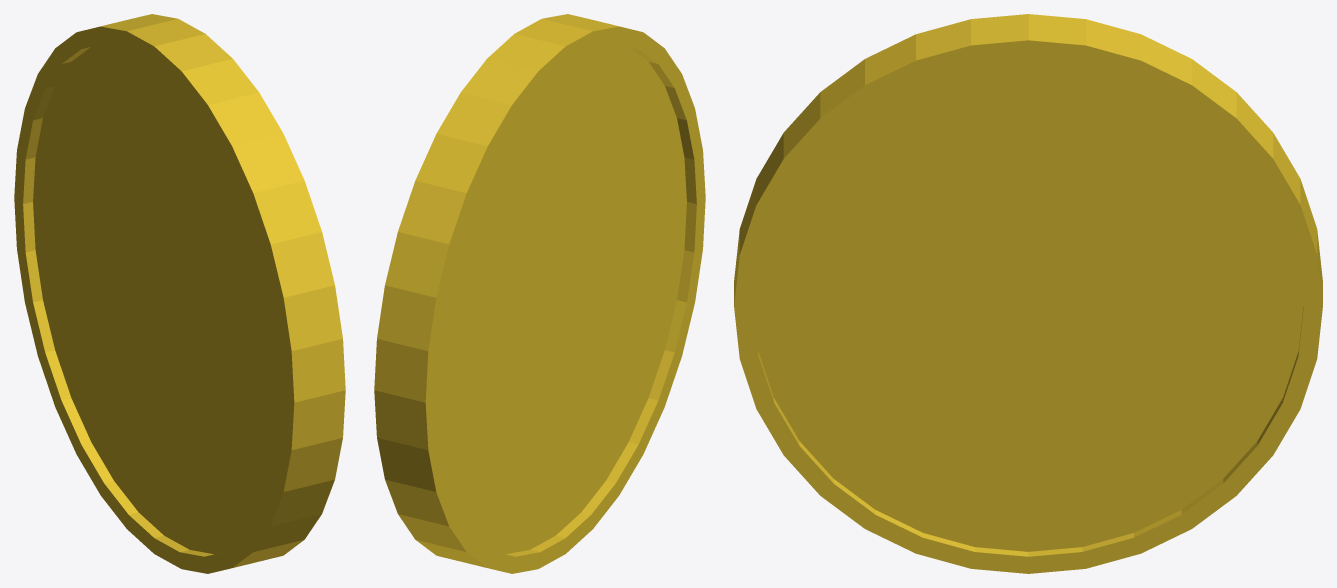
The model's file is basic-coin.fbx.
3 views of the same model, side by side, from view 1: azimuth 30°, elevation 25°; view 2: azimuth 150°, elevation 25°; view 3: azimuth 270°, elevation 25° (orthographic). The views are drawn at different scales.
Visible parts, largest first — view 1: Cylinder; view 2: Cylinder; view 3: Cylinder.
Boxes of the visible parts, x1,y1,x2,y2 form: Cylinder: [14, 14, 345, 573]; Cylinder: [374, 14, 705, 573]; Cylinder: [734, 14, 1322, 573].
Bounding box in the file's own units: 21.2 × 200 × 200.
